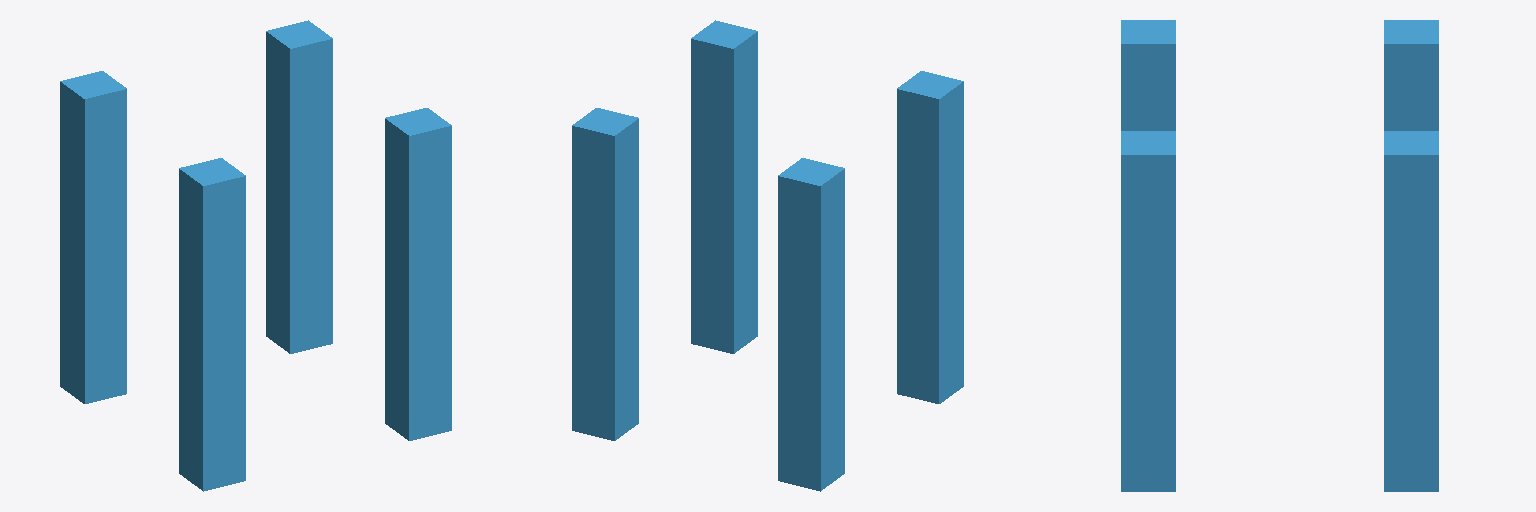
The robot description file, URDF, robot "urdf_table":
<?xml version="1.0" ?>
<robot name="urdf_table">
 <link name="world"/>
  <joint name="fixed" type="fixed">
    <parent link="world"/>
    <child link="baseLink"/>
    <origin xyz="0 0 0"/>
  </joint>

  <link name="baseLink">
  
    <contact>
      <lateral_friction value="1.0"/>
      <rolling_friction value="1.0"/>
      <contact_cfm value="0.001"/>
      <contact_erp value="0.2"/>
    </contact>
  
    <inertial>
      <origin rpy="0 0 0" xyz="0 0 0.6"/>
       <mass value="0"/>
       <inertia ixx="0.1" ixy="0" ixz="0" iyy="0.1" iyz="0" izz="0.1"/>
    </inertial>
    <visual>
      <origin rpy="0 0 0" xyz="0 0 0.6"/>
      <geometry>
	    <mesh filename="table.obj" scale="0.4 0.4 0.03"/>
      </geometry>
	   <material name="metal_gray">
      		<color rgba=" 0.8352941176470589 0.6901960784313725 0.48627450980392156 1" />
      	   </material>
    </visual>
    <visual>
      <origin rpy="0 0 0" xyz="-0.12 -0.12 0.42"/>
      <geometry>
        <box size="0.05 0.05 0.34"/>
      </geometry>
	  <material name="framemat0"/>	 
    </visual>
    <visual>
      <origin rpy="0 0 0" xyz="-0.12 0.12 0.42"/>
      <geometry>
        <box size="0.05 0.05 0.34"/>
      </geometry>
	  <material name="framemat0"/>
	  </visual>
    <visual>
      <origin rpy="0 0 0" xyz="0.12 -0.12 0.42"/>
      <geometry>
        <box size="0.05 0.05 0.34"/>
      </geometry>
	  <material name="framemat0"/>
	  </visual>
    <visual>
      <origin rpy="0 0 0" xyz="0.12 0.12 0.42"/>
      <geometry>
        <box size="0.05 0.05 0.34"/>
      </geometry>
    </visual>
    <collision>
      <origin rpy="0 0 0" xyz="0 0 0.6"/>
      <geometry>
      <box size="0.4 0.4 0.03"/>
      </geometry>
    </collision>    
  </link>
</robot>

--- Facts derived from the render (not from the file) ---
Views: 3 orthographic renders of the robot side by side, from view 1: azimuth 30°, elevation 25°; view 2: azimuth 150°, elevation 25°; view 3: azimuth 270°, elevation 25°.
Model urdf_table with 2 links and 1 joints (1 fixed), rooted at world, posed all joints at 0.
Links seen in each view (by area): view 1: baseLink; view 2: baseLink; view 3: baseLink.
Link boxes in pixels (box(x1,y1,x2,y2)): baseLink: box(60, 20, 451, 491); baseLink: box(572, 20, 963, 491); baseLink: box(1121, 20, 1438, 491).
Size in the robot's own frame: 0.29 by 0.29 by 0.34 metres.
Meshes: 1 distinct files referenced, 0 mesh visuals loaded (none loaded); not drawn: 1 (reference not matched to a file when rendering).